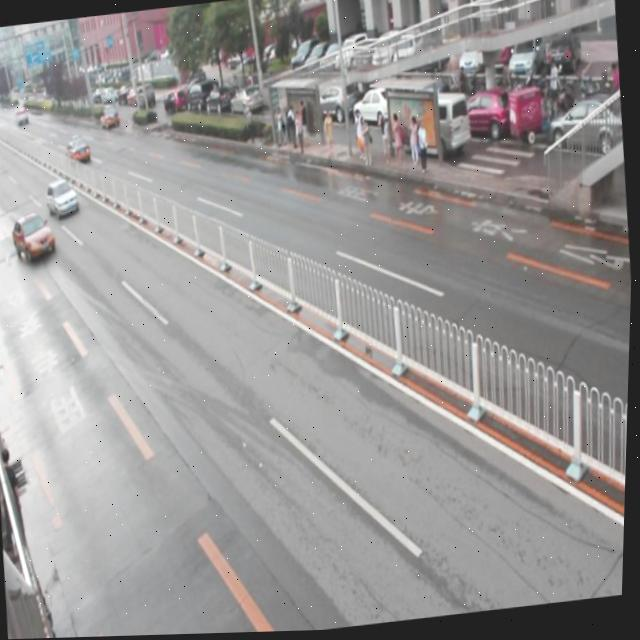car: (11, 211, 57, 260), (44, 177, 82, 218)
